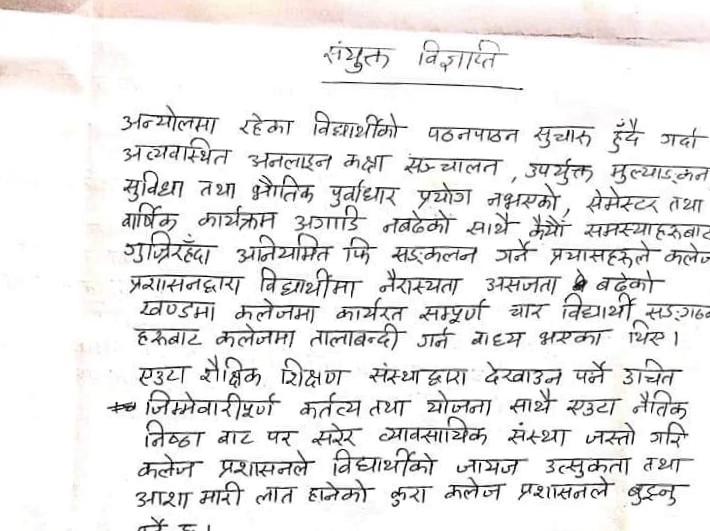text: (141, 389, 280, 420), (410, 40, 510, 75), (311, 106, 408, 141), (375, 418, 489, 447), (121, 137, 230, 167), (255, 266, 362, 296), (121, 232, 215, 266), (118, 104, 223, 134), (581, 218, 710, 242), (234, 232, 330, 264), (322, 36, 394, 78), (330, 448, 437, 476), (481, 356, 565, 389), (364, 361, 472, 386), (216, 451, 312, 479), (548, 241, 651, 267), (605, 160, 710, 185), (126, 270, 245, 292), (422, 119, 520, 145), (515, 478, 613, 504), (310, 323, 400, 351), (274, 358, 350, 391), (400, 153, 500, 178), (542, 454, 632, 480), (559, 293, 636, 323), (377, 269, 462, 296), (388, 241, 477, 266), (485, 184, 559, 214), (332, 296, 408, 325), (520, 156, 595, 185), (215, 324, 297, 350), (583, 187, 659, 215), (423, 389, 496, 418), (196, 206, 280, 231), (233, 299, 320, 323), (199, 357, 266, 388), (246, 175, 315, 205), (138, 298, 220, 323), (246, 149, 331, 173), (330, 177, 398, 207), (619, 358, 687, 388), (137, 419, 207, 448), (123, 170, 184, 203), (131, 324, 205, 351), (531, 120, 595, 151), (295, 390, 361, 420), (410, 180, 475, 210), (381, 210, 459, 234), (482, 272, 559, 296), (292, 207, 365, 232), (627, 479, 692, 507), (420, 298, 491, 323), (629, 391, 692, 419), (307, 478, 373, 504), (445, 477, 506, 505), (592, 270, 665, 293), (118, 202, 180, 229), (539, 328, 614, 350), (137, 455, 199, 481), (655, 123, 708, 153), (234, 110, 292, 137), (582, 420, 636, 449), (505, 422, 569, 446), (454, 455, 527, 476), (644, 299, 710, 321), (467, 326, 525, 350), (135, 360, 188, 386), (640, 451, 696, 475), (607, 117, 643, 154), (198, 481, 245, 509), (662, 241, 710, 268), (644, 421, 690, 448), (572, 359, 612, 389), (505, 391, 555, 415), (310, 422, 360, 446), (134, 488, 191, 509), (387, 482, 434, 507), (494, 239, 537, 266), (465, 215, 519, 236), (341, 151, 388, 175), (341, 235, 375, 268), (417, 326, 458, 353), (564, 397, 625, 415), (528, 213, 567, 240), (195, 175, 237, 200), (255, 484, 300, 506), (624, 322, 667, 345), (215, 424, 257, 447), (368, 398, 412, 419), (507, 299, 550, 320), (665, 193, 704, 216), (263, 425, 300, 448), (133, 518, 172, 531), (177, 519, 198, 531)
